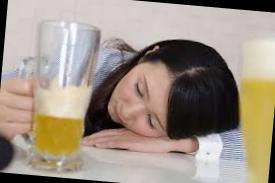Drunk: (107, 64, 171, 136)
